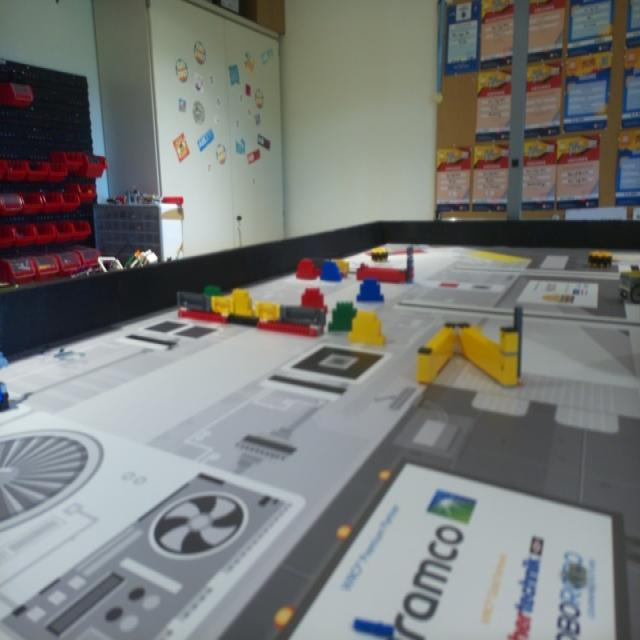blau: (356, 276, 384, 304), (318, 262, 344, 282)
gruen: (329, 303, 359, 331), (204, 286, 223, 300)
rot: (299, 288, 327, 311), (296, 260, 316, 278)
yellow: (348, 310, 386, 346), (227, 288, 254, 314)
